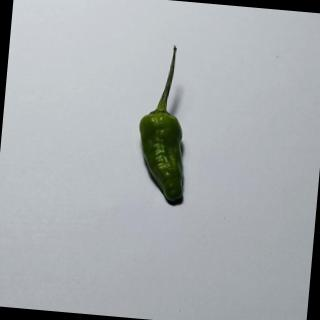Cabai Hijau: (128, 42, 212, 214)
